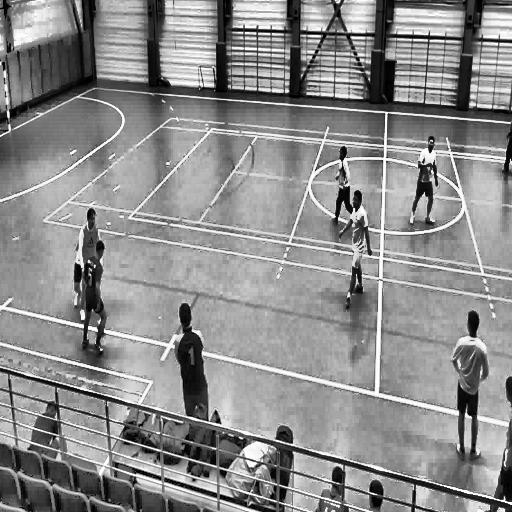ball: (96, 320, 105, 333)
player: (449, 308, 484, 466), (478, 372, 512, 512), (337, 191, 375, 315), (172, 300, 210, 419), (71, 206, 104, 324), (82, 240, 107, 361), (409, 131, 439, 231), (332, 143, 354, 225), (501, 99, 512, 183)
